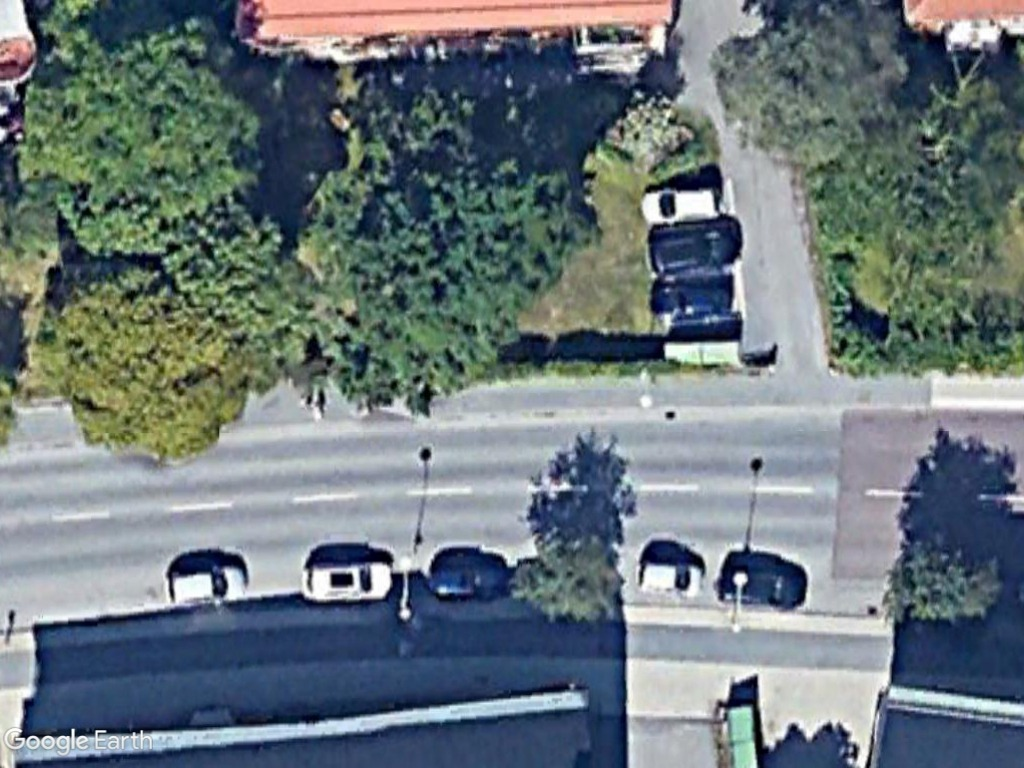car: (292, 554, 400, 607), (162, 558, 252, 613), (635, 181, 724, 232), (423, 554, 510, 606), (629, 553, 709, 601)
